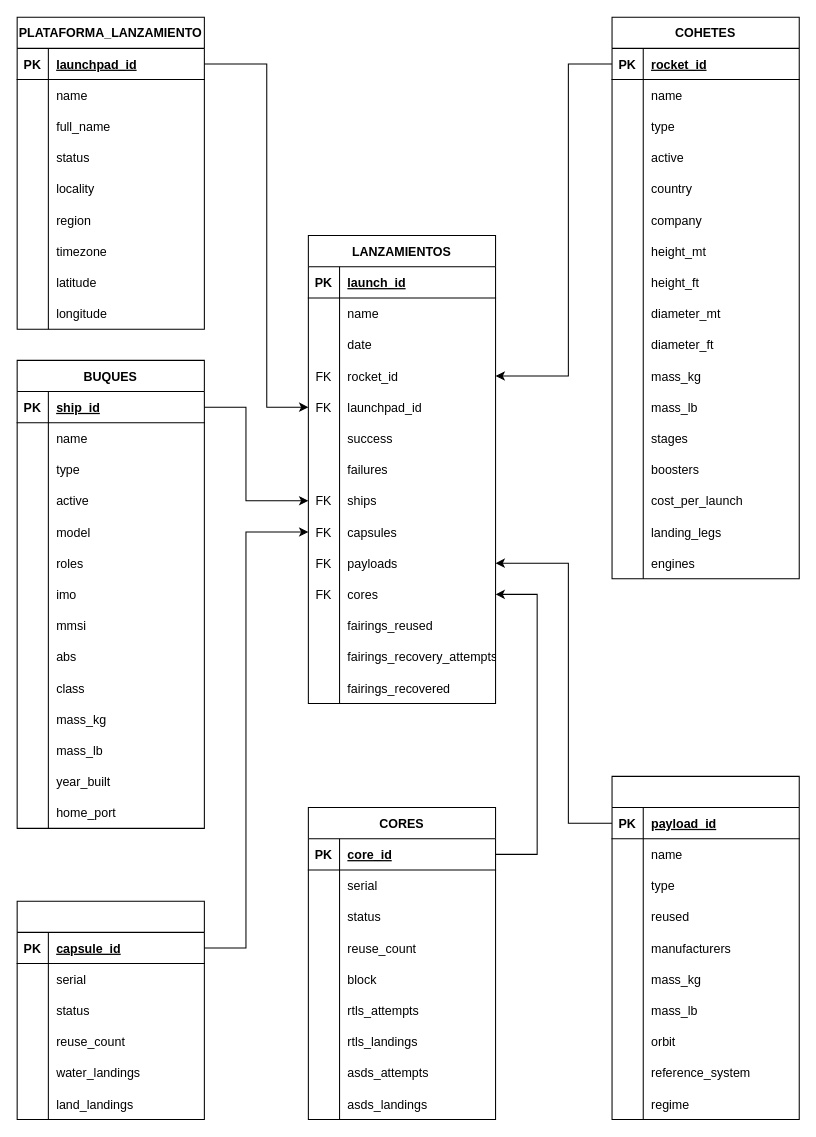
Some shapes in this 816 by 1137 pixel diagram are drawn without their labels. Here are the shapes that lost their labels. From the top down, the box of each, then its label:
(611, 775, 799, 1120): CARGA
(16, 900, 204, 1120): CAPSULAS
